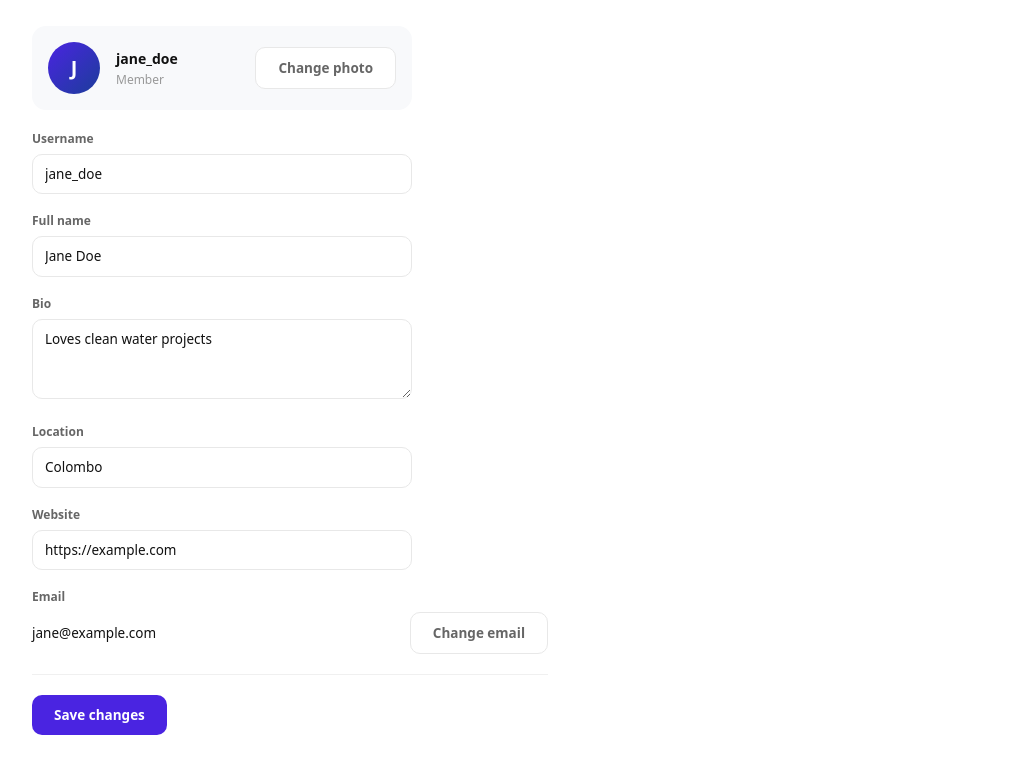
Test: ProfileSection › shows an error toast when the save fails
This screenshot has width=1024, height=763.
(page scrolled)
Click the button "Save changes": (99, 715) x1=32 y1=695 x2=167 y2=735
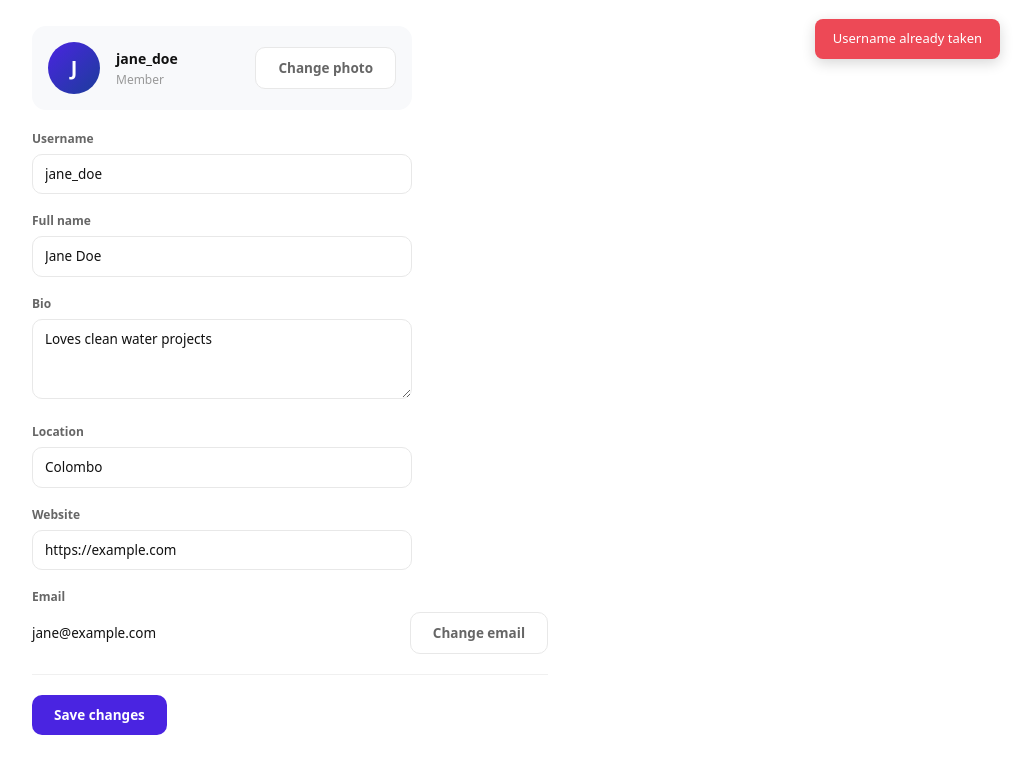
Expected: the text "Username already taken" is shown, x1=815 y1=19 x2=1000 y2=58
